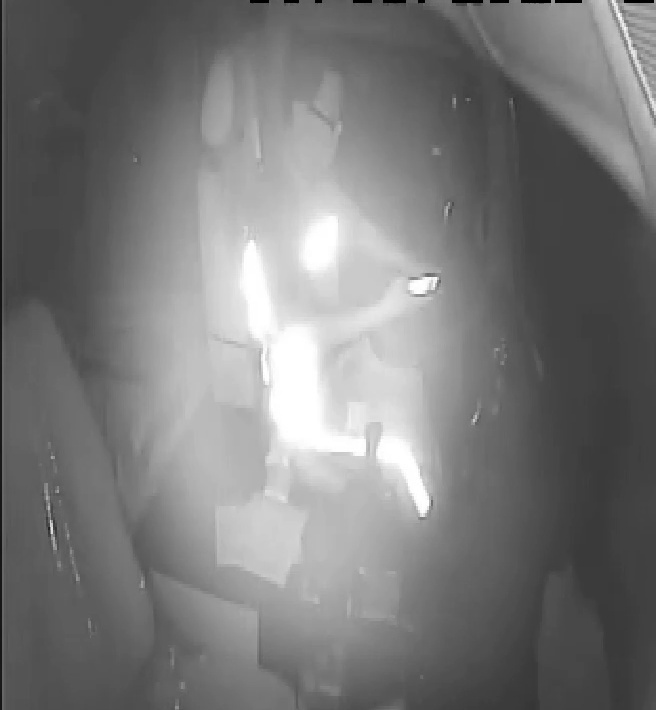cellphone: (397, 270, 442, 304)
